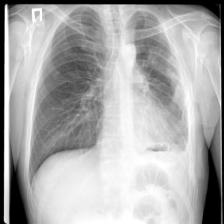tuberculosis: (18, 5, 202, 199)
